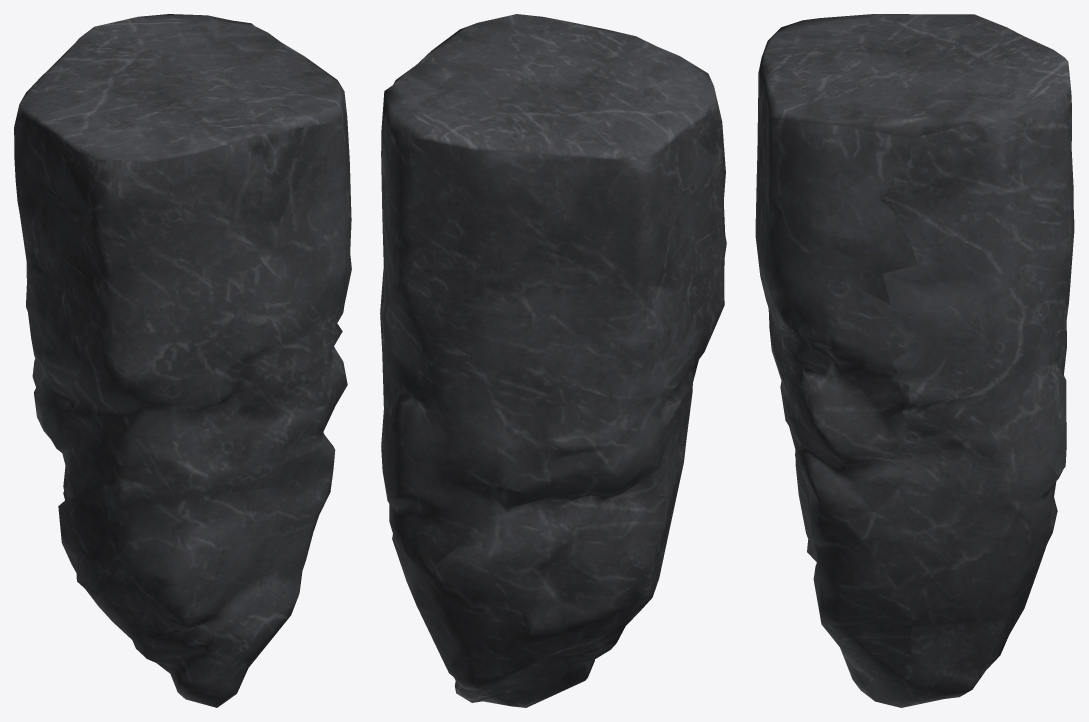
The model's file is Cliff_Ledge_01.fbx.
3 views of the same model, side by side, from view 1: azimuth 30°, elevation 25°; view 2: azimuth 150°, elevation 25°; view 3: azimuth 270°, elevation 25° (orthographic).
Parts seen in each view (by area): view 1: SM_Cliff_Ledge_01.mo; view 2: SM_Cliff_Ledge_01.mo; view 3: SM_Cliff_Ledge_01.mo.
Boxes of the visible parts, <box> form: SM_Cliff_Ledge_01.mo: <box>14,14,351,707</box>; SM_Cliff_Ledge_01.mo: <box>380,14,726,707</box>; SM_Cliff_Ledge_01.mo: <box>755,14,1074,707</box>.
Size of the model in its own units: 163 by 368 by 168.
Materials: 1 (1 with a texture image).
